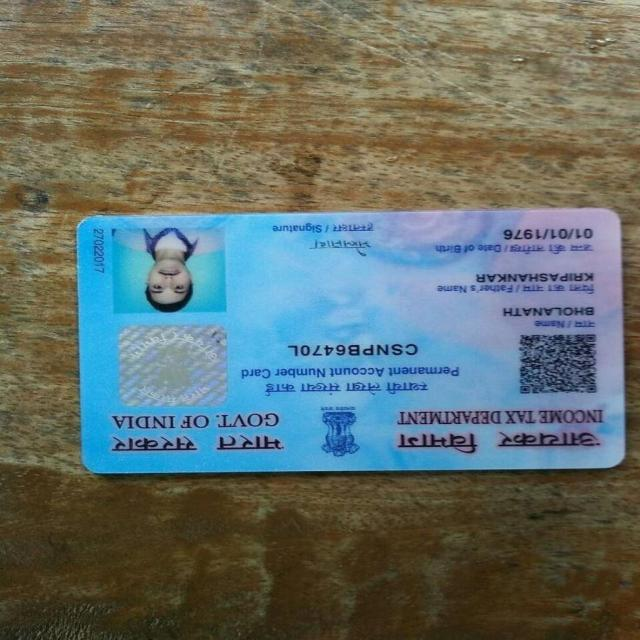pan_card: (80, 213, 625, 471)
